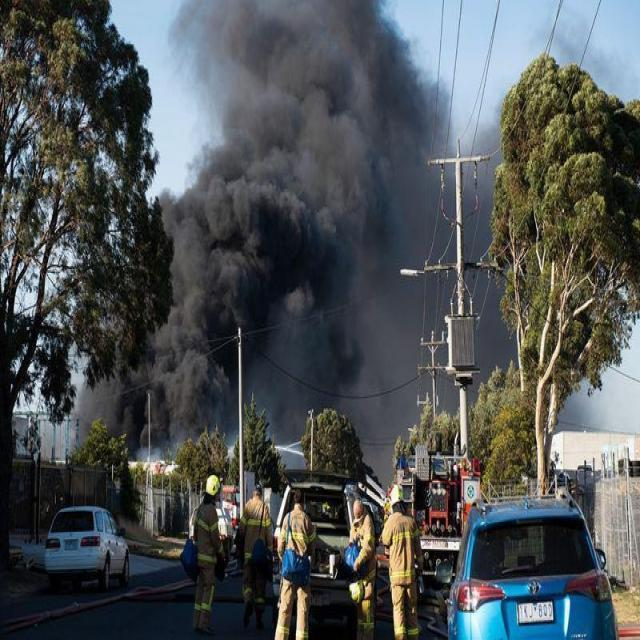Smoke: (75, 2, 520, 490)
